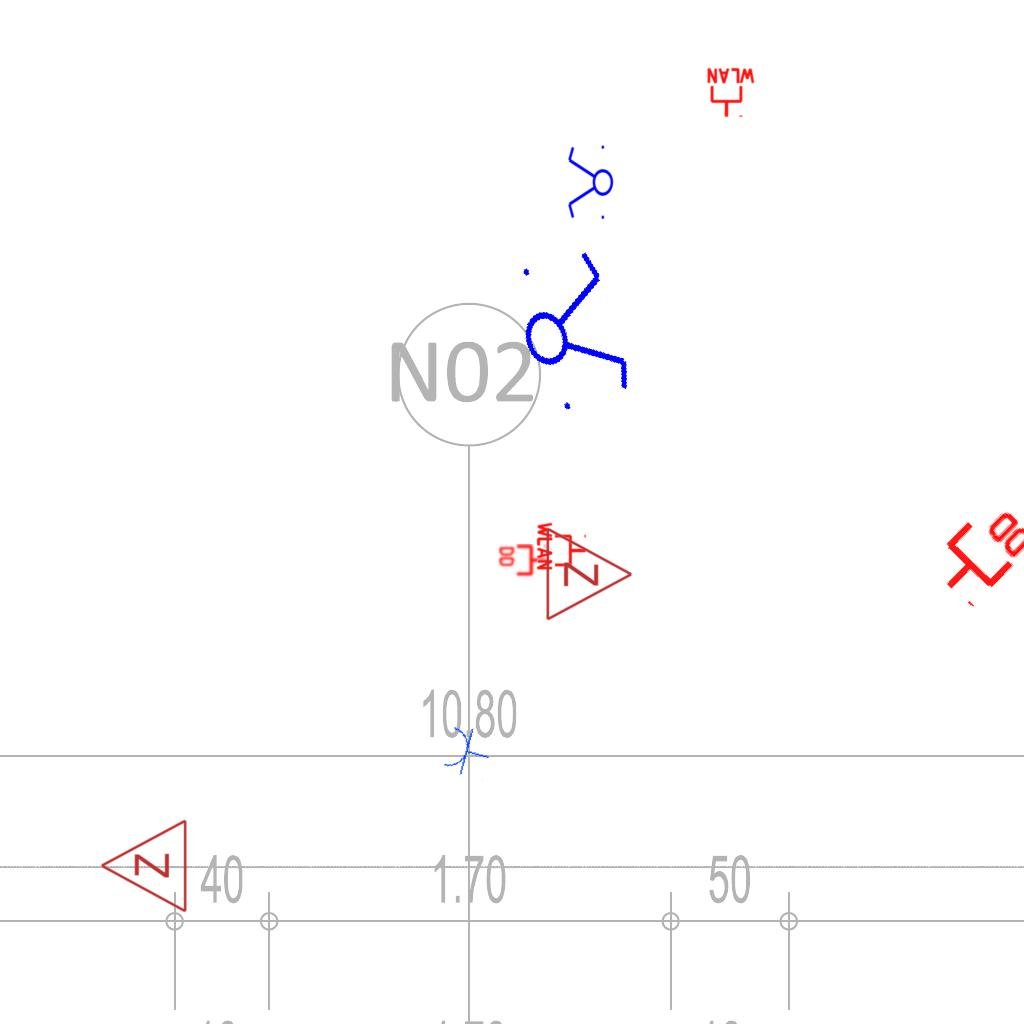Datenanschluss_zweifach: (920, 489, 1024, 612), (497, 544, 548, 578)
Schukosteckdose_einfach: (440, 721, 496, 782)
Serienschalter: (500, 235, 642, 425), (566, 141, 614, 225)
WLAN: (705, 67, 757, 119), (536, 520, 588, 572)
Zimmersignalleuchte: (94, 818, 194, 916), (539, 524, 639, 622)
